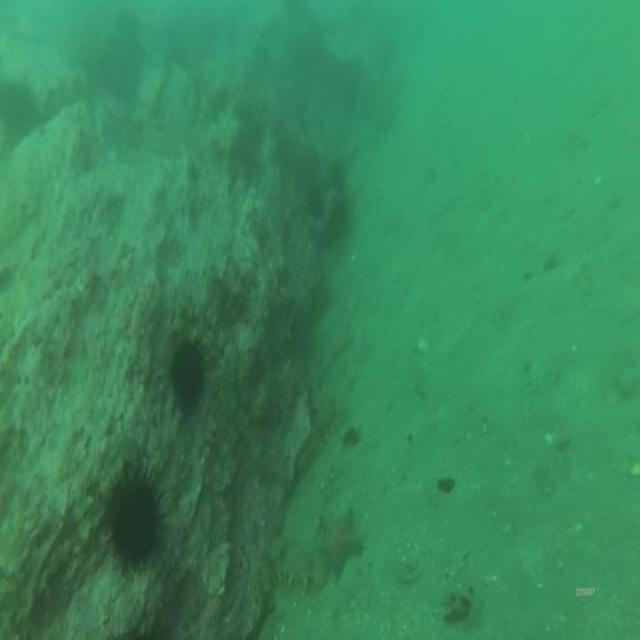echinus: (108, 485, 158, 556), (167, 342, 207, 409)
holothurian: (268, 547, 318, 589)
starfish: (322, 507, 359, 574)
